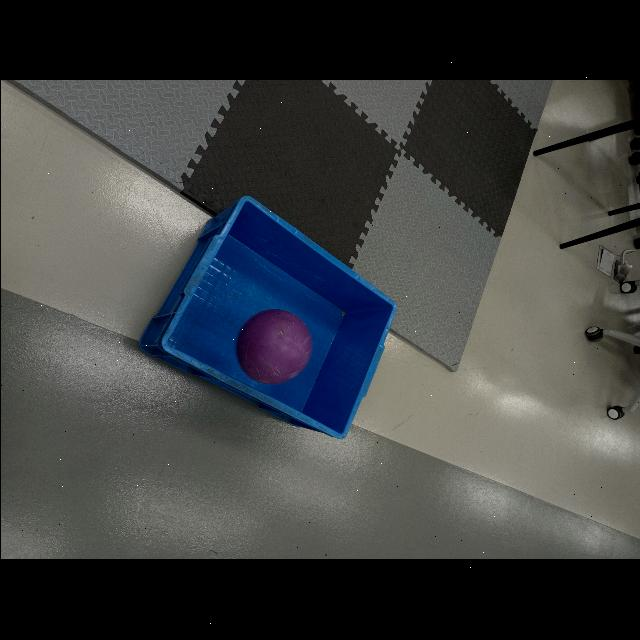P: (236, 309, 312, 385)
